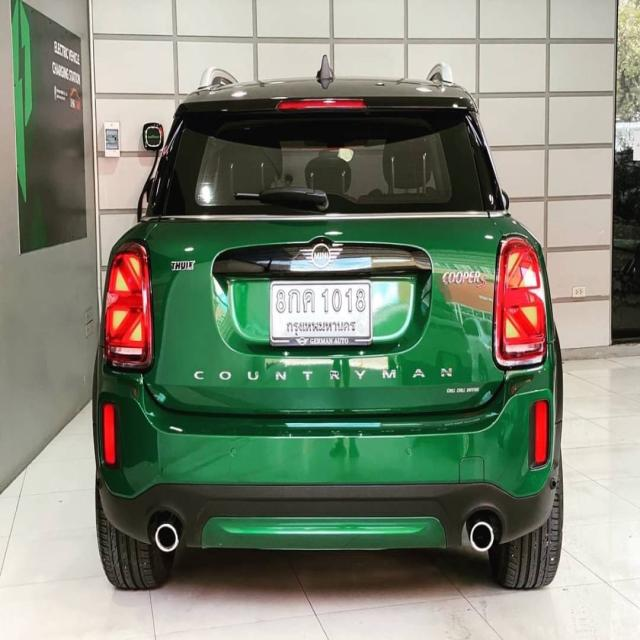license_plate: (264, 269, 378, 355)
